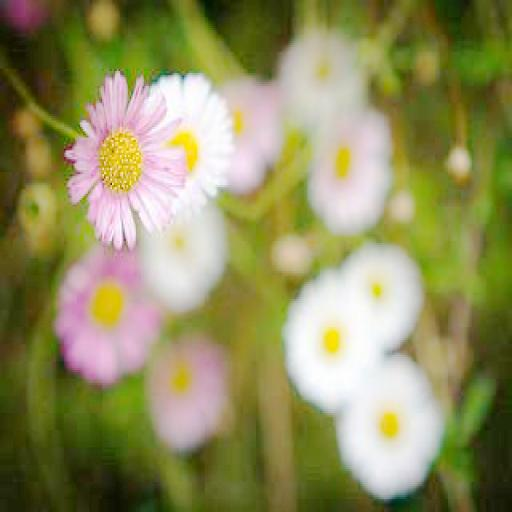daisy: (74, 92, 176, 239), (69, 265, 149, 370), (291, 292, 370, 390)
